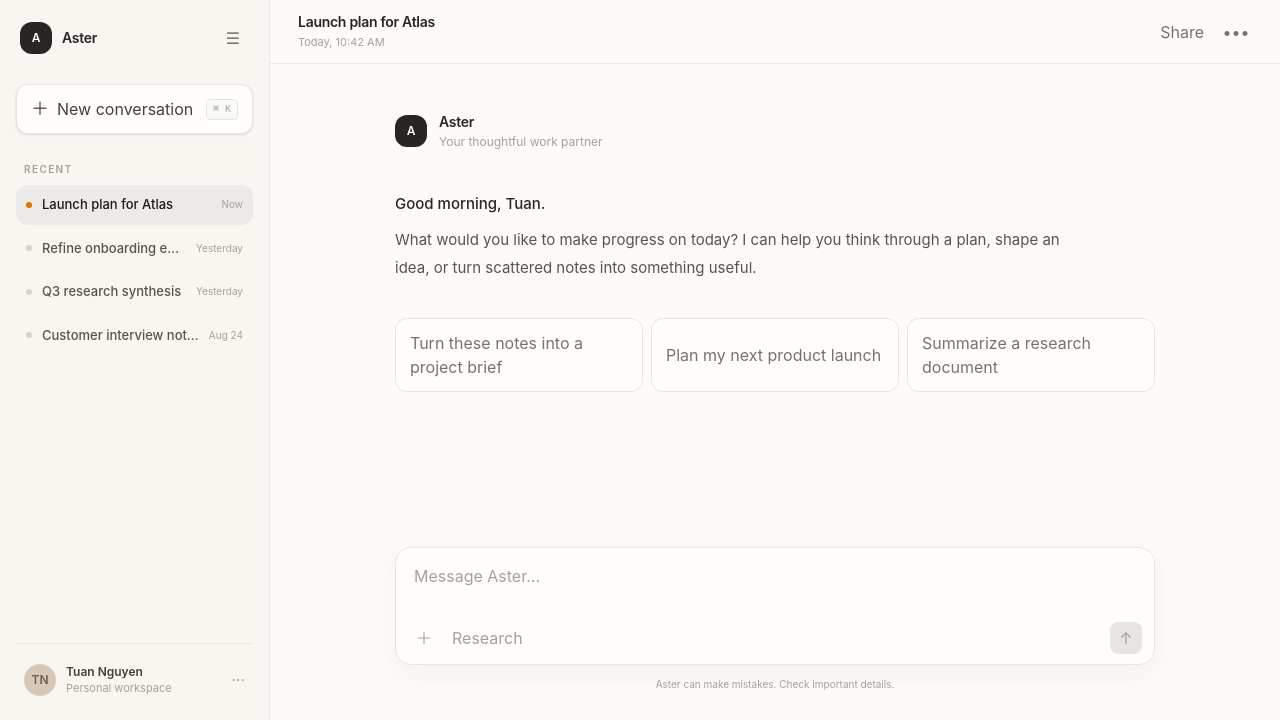
Test: Agent Platform streaming chat › renders agent activity, selected sources, writer text, and the final brief
In the text box labelled "Message Aster": coordinates (775, 588) [404,556,1146,620], type "Research this"
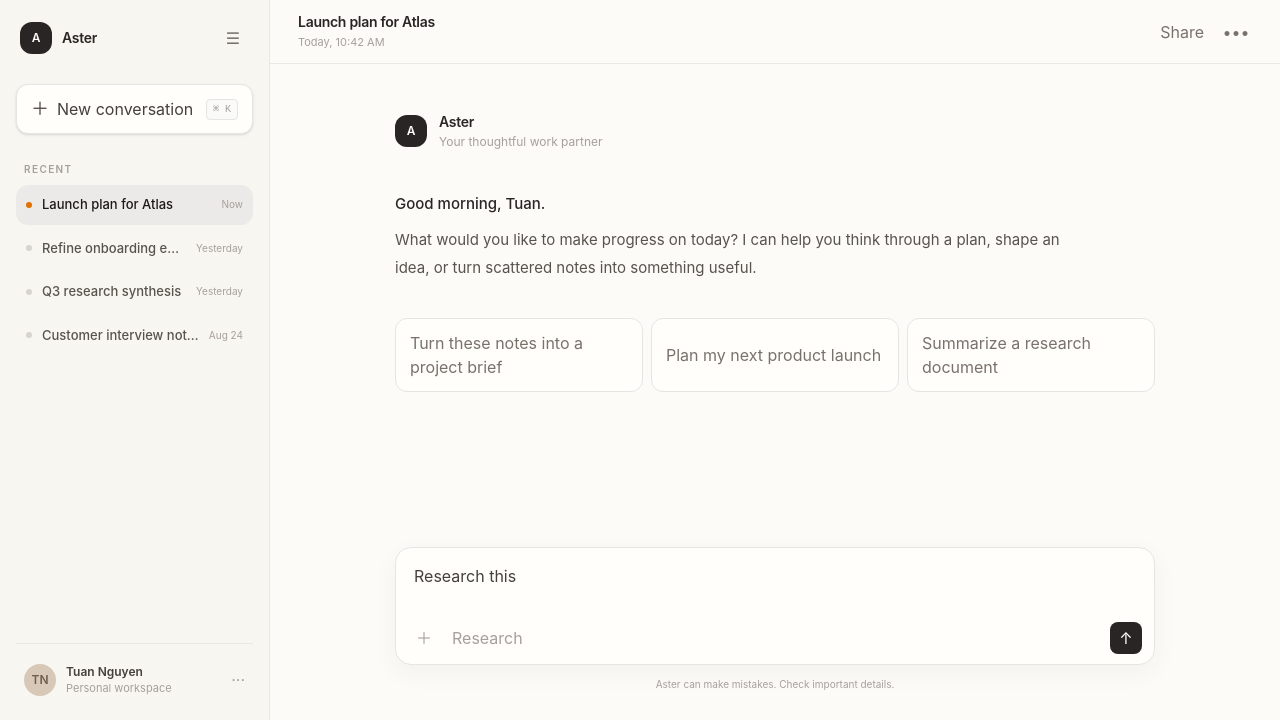
Click the button named "Send message": coordinates (1126, 638) [1110,622,1142,654]
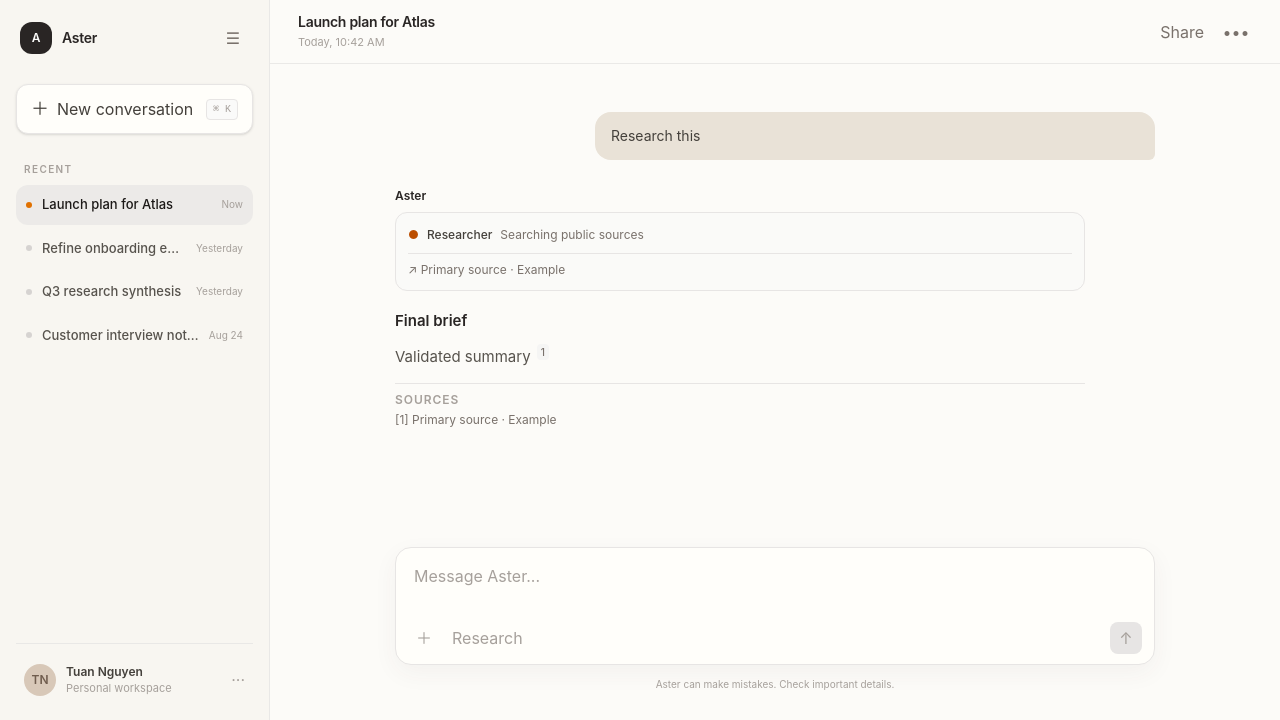
expect the link "↗ Primary source · Example" is shown: met, box [408,262,565,277]
expect the text "Final brief" is shown: met, box [395,311,467,330]
expect the text "Validated summary 1" is shown: met, box [395,344,549,366]
Hover over the link "1": coordinates (543, 352) [537,344,549,360]
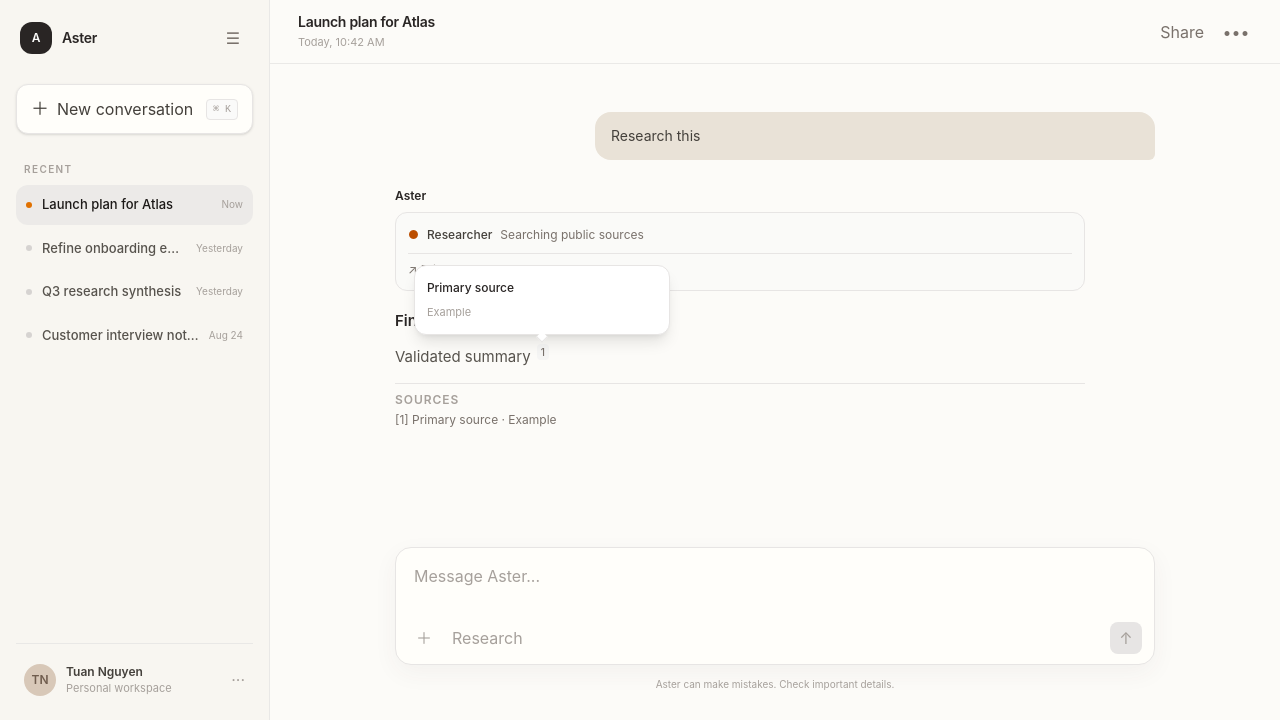
expect the tooltip shows "Primary source": met, box [427,280,514,295]
expect the tooltip shows "Example": met, box [427,305,471,319]
Move the pointer off the link "1", box [537,344,549,360]
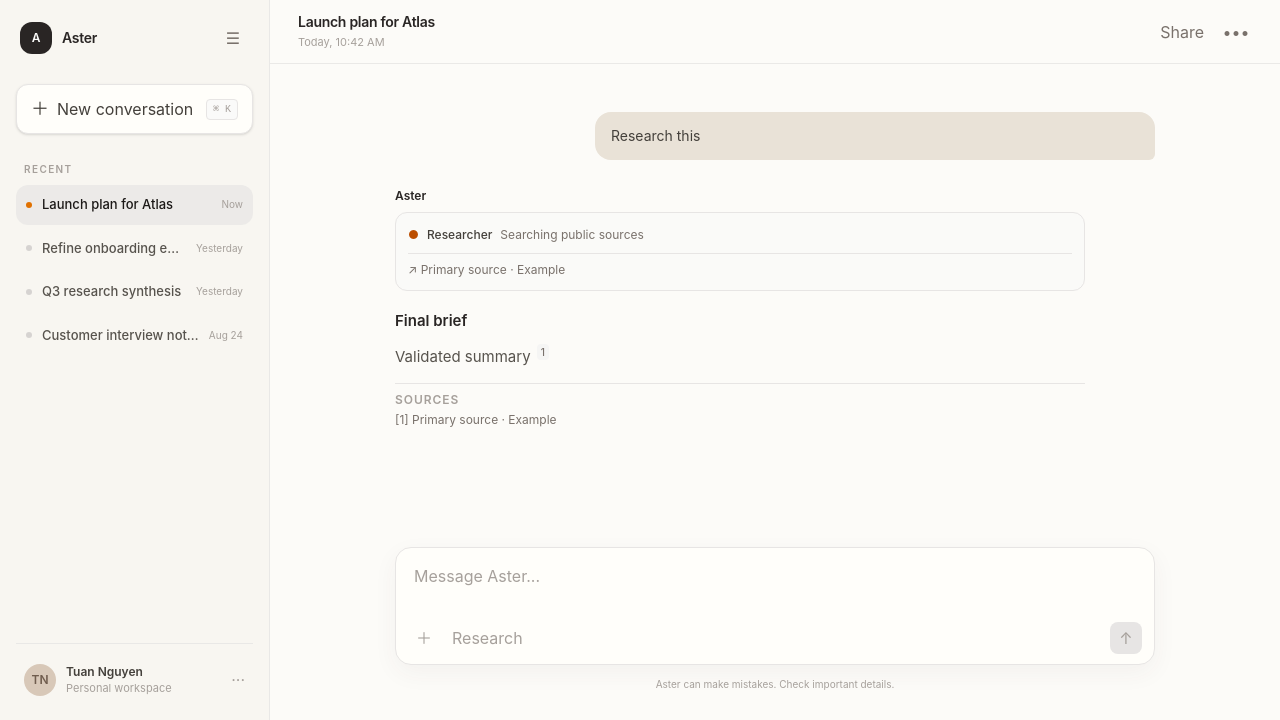
expect the link "[1] Primary source · Example" is shown: met, box [395,412,557,427]
expect the tooltip "Primary source Example" is gone: met
